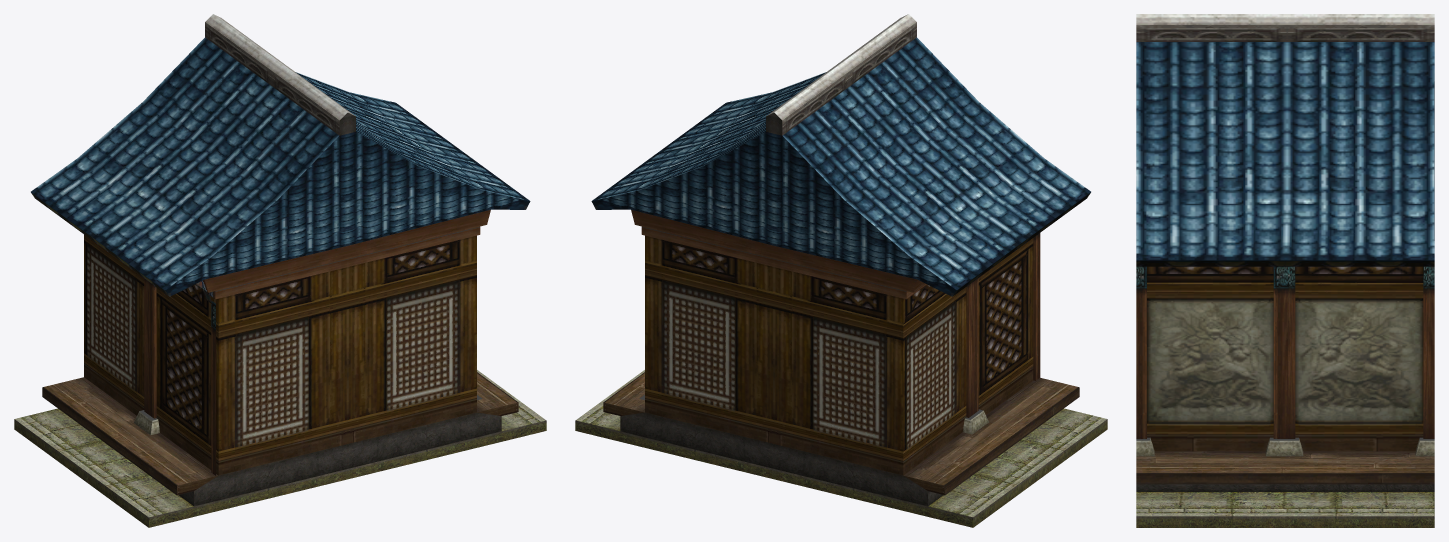
The model's file is secret_wall_00_01.glb.
The picture shows the model from 3 angles, left to right: view 1: azimuth 30°, elevation 25°; view 2: azimuth 150°, elevation 25°; view 3: azimuth 270°, elevation 25°; orthographic projection. The views are drawn at different scales.
Parts seen in each view (by area): view 1: secret_wall_00_01; view 2: secret_wall_00_01; view 3: secret_wall_00_01.
Boxes of the visible parts, left/top/right/bottom form: secret_wall_00_01: left=14, top=14, right=546, bottom=527; secret_wall_00_01: left=575, top=14, right=1107, bottom=527; secret_wall_00_01: left=1136, top=14, right=1434, bottom=527.
Size of the model in its own units: 12.8 by 11.29 by 7.5.
Materials: 4 (4 with a texture image).
